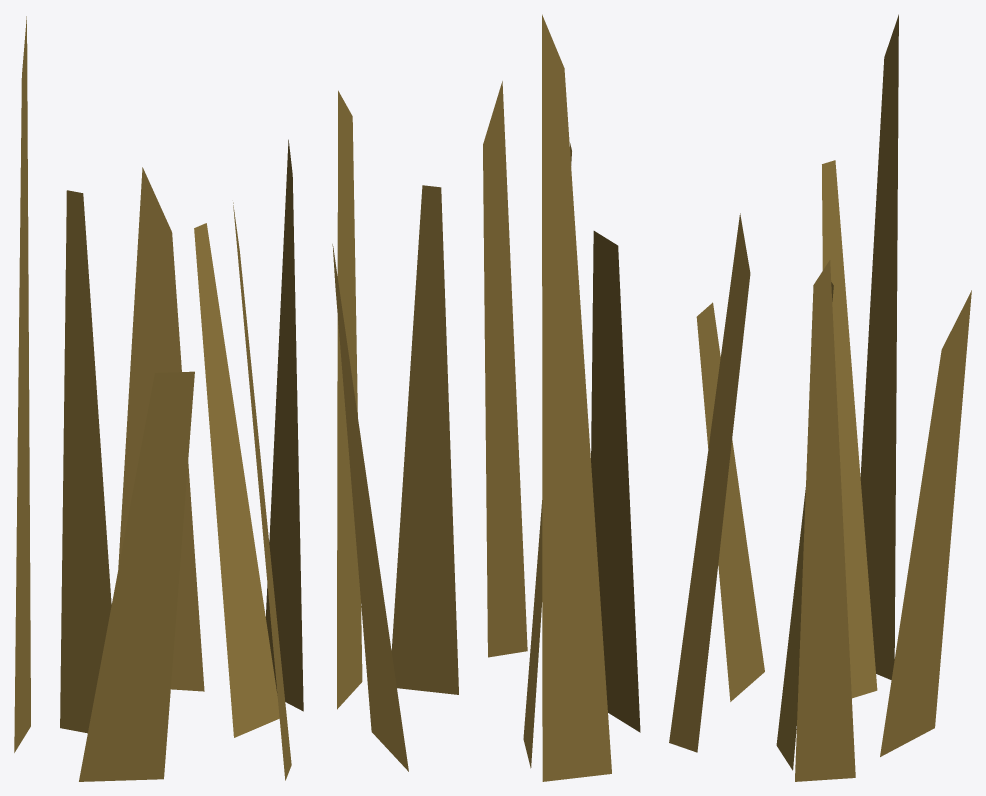
File: T_Grass2Dry.fbx
3 views of the same model, side by side, from view 1: azimuth 30°, elevation 25°; view 2: azimuth 150°, elevation 25°; view 3: azimuth 270°, elevation 25° (orthographic). The views are drawn at different scales.
Visible parts, largest first — view 1: Plane; view 2: Plane; view 3: Plane.
Part boxes in pixels (box(x1,y1,x2,y2)): Plane: box(14, 16, 303, 781); Plane: box(332, 14, 640, 781); Plane: box(669, 14, 971, 781).
Size of the model in its own units: 0.2177 by 0.5612 by 0.231.
